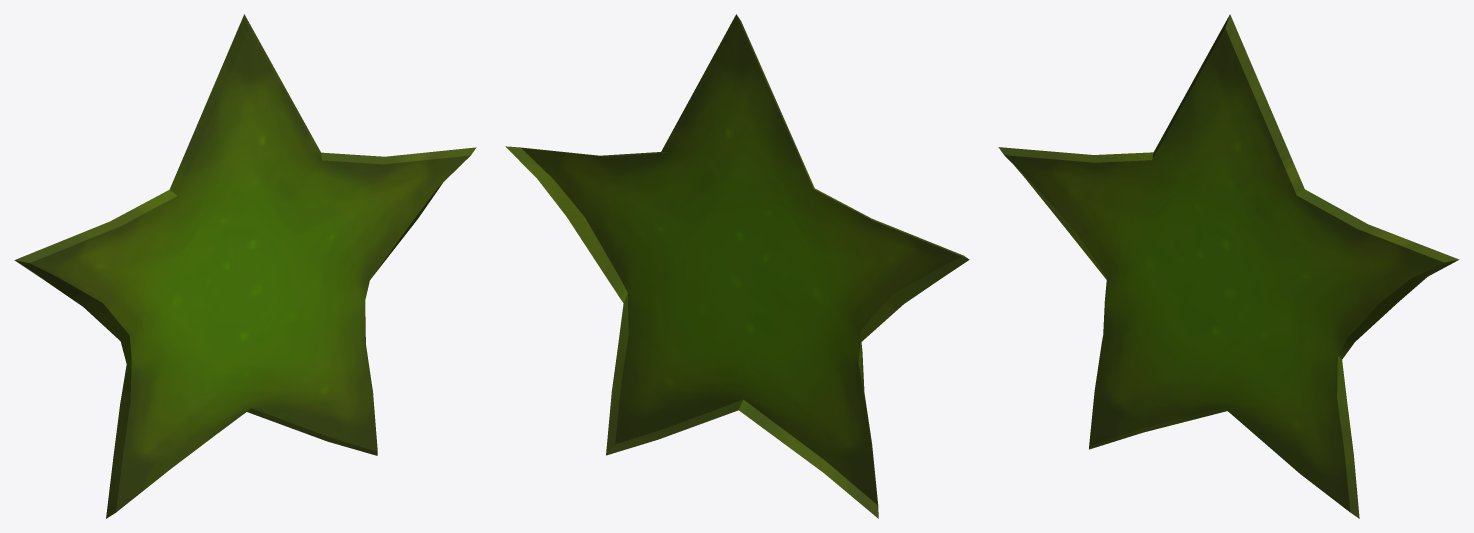
The model's file is CardboardCutout_Star_Green_Scaled.fbx.
3 views of the same model, side by side, from view 1: azimuth 30°, elevation 25°; view 2: azimuth 150°, elevation 25°; view 3: azimuth 330°, elevation 25° (orthographic).
Visible parts, largest first — view 1: Star7; view 2: Star7; view 3: Star7.
Boxes of the visible parts, left/top/right/bottom form: Star7: left=14, top=14, right=476, bottom=518; Star7: left=505, top=14, right=969, bottom=518; Star7: left=998, top=14, right=1459, bottom=518.
Bounding box in the file's own units: 128 × 125 × 3.74.
